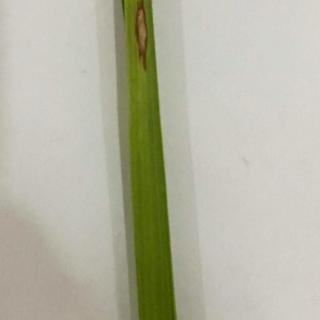Blast: (124, 1, 158, 80)
